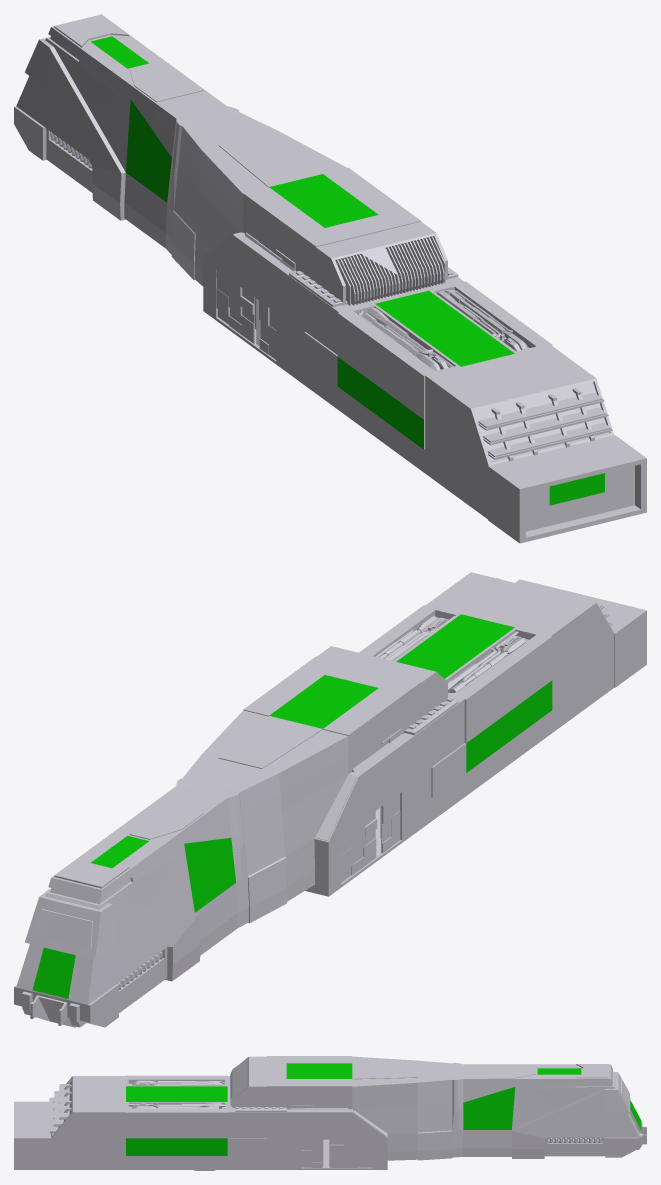
File: hull.large.fbx
3 renders of one model, top to bottom at view 1: azimuth 30°, elevation 25°; view 2: azimuth 150°, elevation 25°; view 3: azimuth 270°, elevation 25°, orthographic. The views are drawn at different scales.
Visible parts, largest first — view 1: hull.large; view 2: hull.large; view 3: hull.large.
Boxes of the visible parts, left/top/right/bottom form: hull.large: left=14, top=14, right=646, bottom=543; hull.large: left=14, top=572, right=646, bottom=1027; hull.large: left=14, top=1056, right=646, bottom=1170.
Size of the model in its own units: 4.31 by 4.76 by 31.23.
